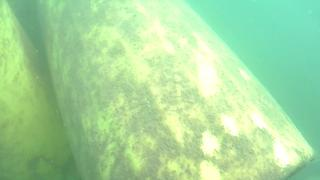pipe: (34, 1, 316, 180), (1, 1, 73, 179)
